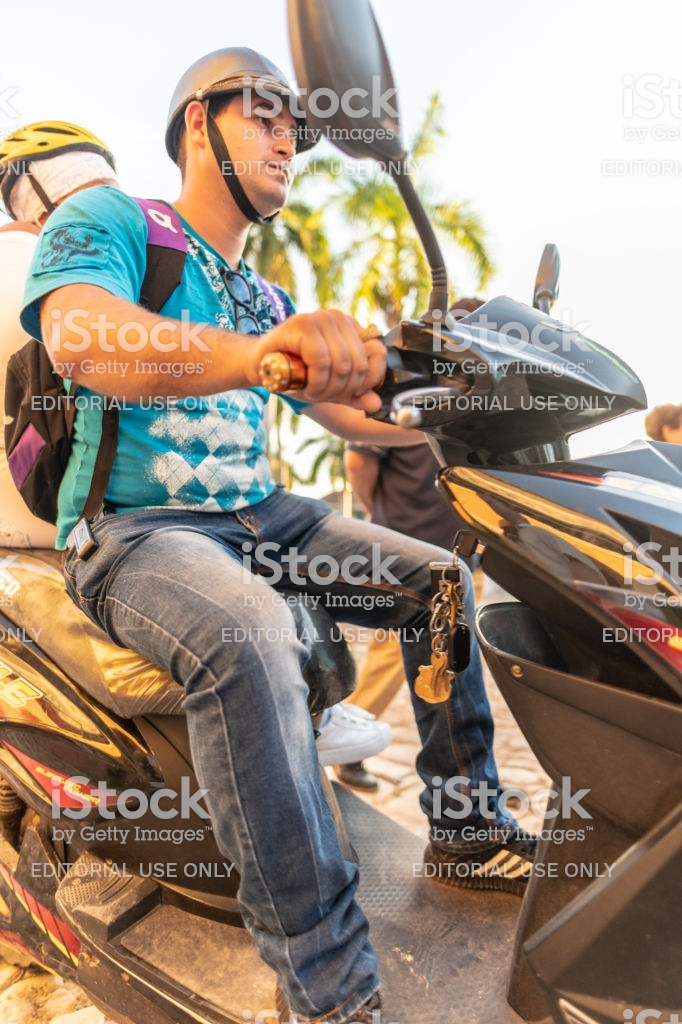helmet: (171, 39, 315, 111)
